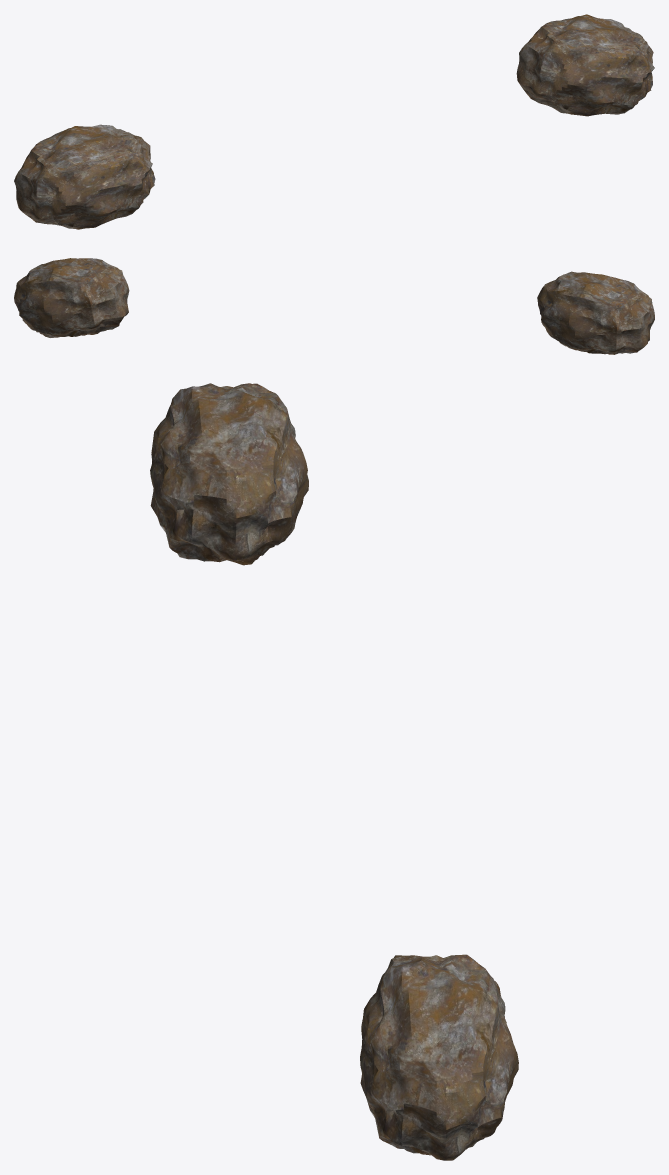
The model's file is mars2.glb.
3 views of the same model, one above another, from view 1: azimuth 30°, elevation 25°; view 2: azimuth 150°, elevation 25°; view 3: azimuth 270°, elevation 25° (orthographic). The views are drawn at different scales.
Parts seen in each view (by area): view 1: special-rock.001, rock; view 2: special-rock.001, rock; view 3: rock, special-rock.001.
Boxes of the visible parts, x1,y1,x2,y2 form: special-rock.001: (14,124,155,229); rock: (516,14,654,116); special-rock.001: (537,271,654,354); rock: (14,258,129,337); rock: (360,954,518,1160); special-rock.001: (150,383,308,565).
Size of what is drawn, in the model's own units: 6.96 by 1.56 by 1.92.
Materials: 2 (2 with a texture image).
